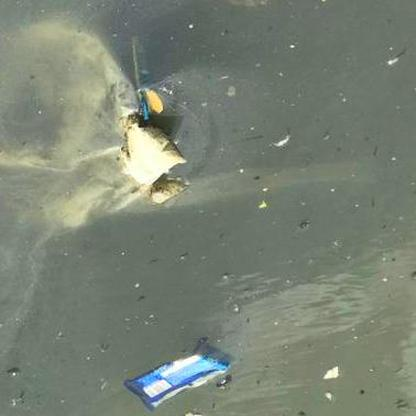plastic bag: (32, 22, 186, 220), (122, 338, 231, 410)
